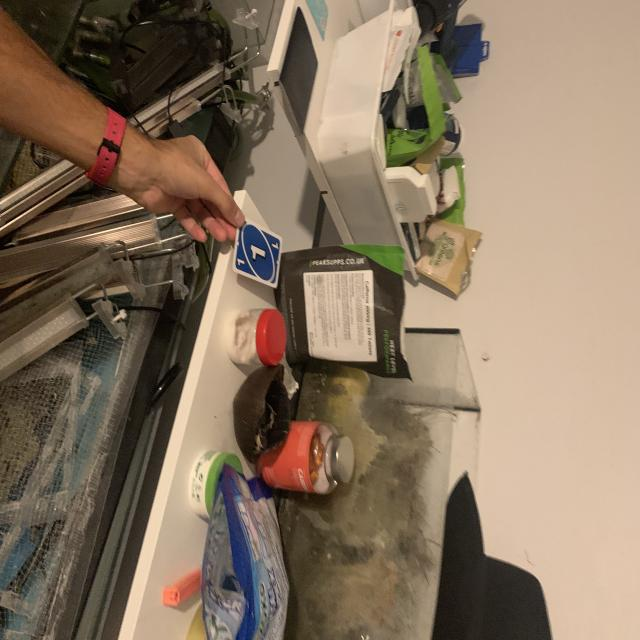lblue-1: (270, 238, 280, 252)
